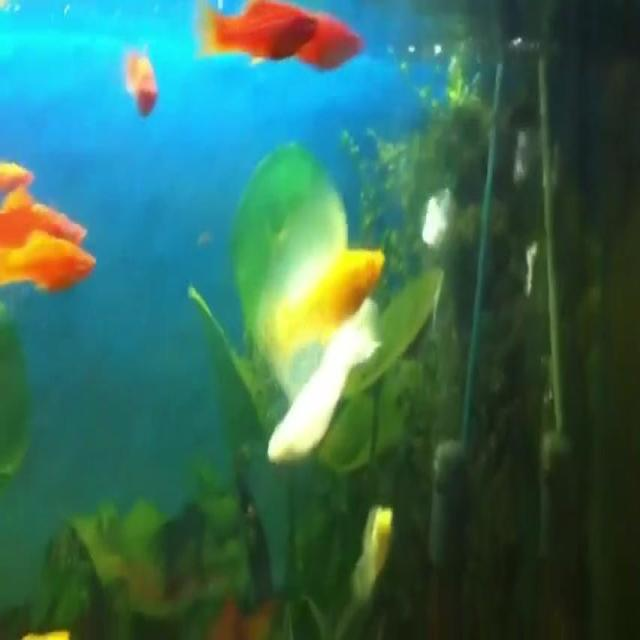PlatyFish: (232, 126, 396, 410), (198, 0, 322, 67)
